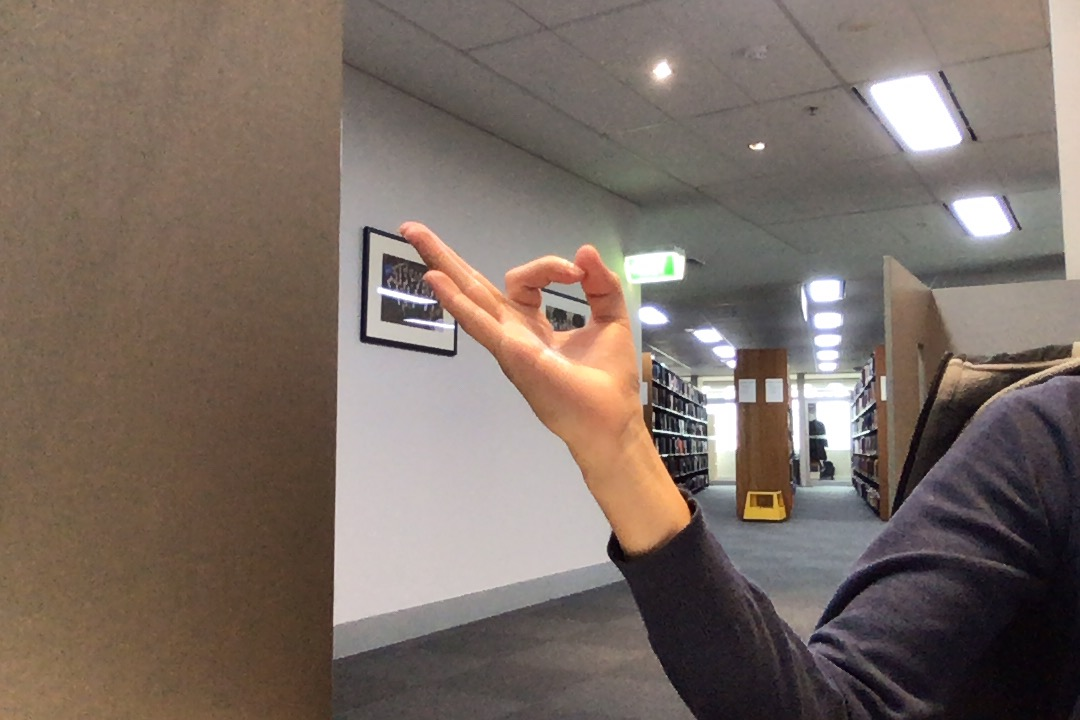oksign: (390, 212, 655, 439)
